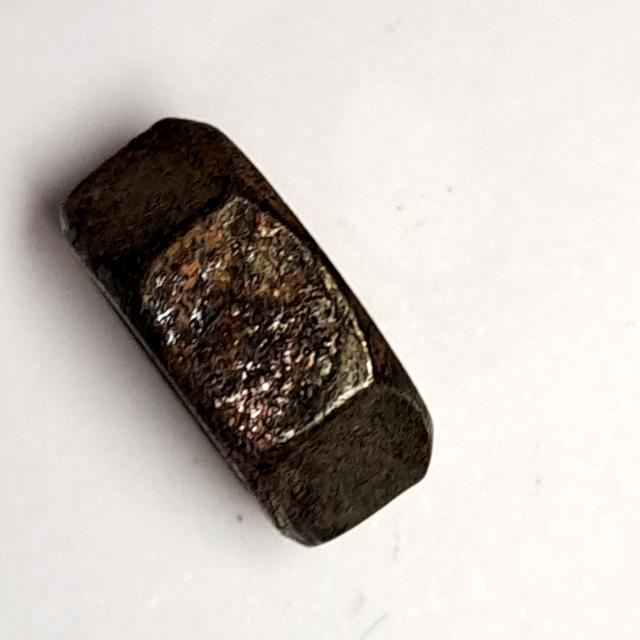Side_Rust: (36, 96, 472, 554)
